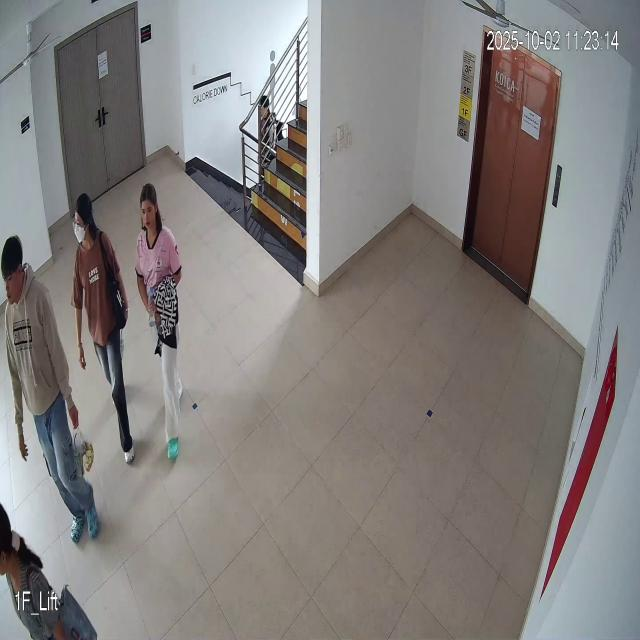face: (70, 190, 96, 247), (139, 173, 160, 240)
